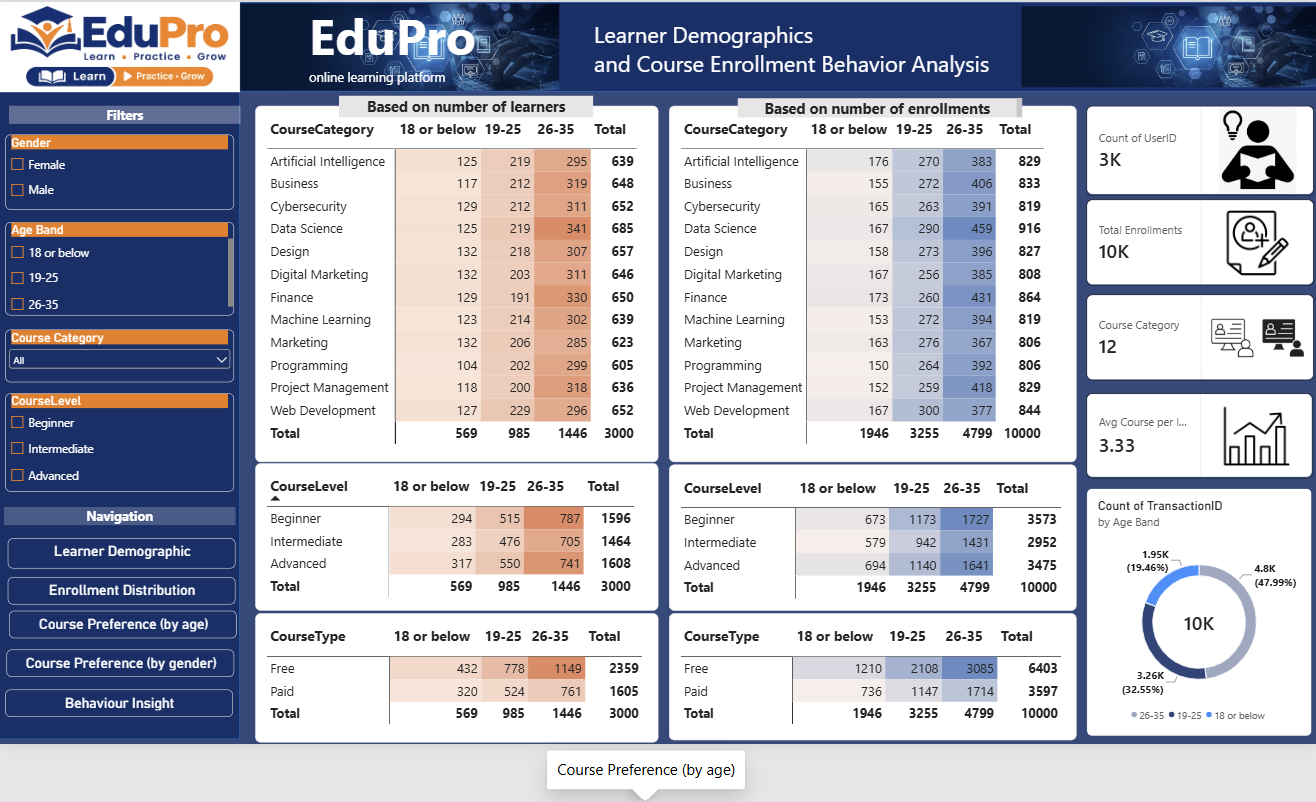

The page's visual inventory and layout, read from the dashboard file:
{"tool":"powerbi","page":{"name":"Course Preference (by age) ","canvas":[1920,1080],"ordinal":2},"visuals":[{"type":"shape","box":[350.6,0,1569.8,130.8],"z":0},{"type":"image","box":[350.6,0,464,130.8],"z":1000},{"type":"shape","box":[0,123.8,350.6,948.8],"z":2000},{"type":"image","box":[0,0,350.6,130.8],"z":3000},{"type":"textbox","box":[865.1,26.2,941.9,97.7],"z":4000},{"type":"image","box":[1487.8,0,432.6,130.8],"z":5000},{"type":"textbox","box":[450,0,334.9,150],"z":6000},{"type":"pivotTable","fields":{"Columns":["EduPro Online Platform Users.Age Band"],"Rows":["EduPro Online Platform Courses.CourseCategory"],"Values":["Count(EduPro Online Platform Transactions.UserID)"]},"box":[373.3,151.7,586,518],"z":7000},{"type":"pivotTable","fields":{"Columns":["EduPro Online Platform Users.Age Band"],"Rows":["EduPro Online Platform Courses.CourseCategory"],"Values":["Count(EduPro Online Platform Transactions.TransactionID)"]},"box":[975,150,593,518],"z":8000},{"type":"pivotTable","fields":{"Columns":["EduPro Online Platform Users.Age Band"],"Rows":["EduPro Online Platform Courses.CourseLevel"],"Values":["Count(EduPro Online Platform Transactions.UserID)"]},"box":[373.3,671.5,586,214.5],"z":9000},{"type":"pivotTable","fields":{"Columns":["EduPro Online Platform Users.Age Band"],"Rows":["EduPro Online Platform Courses.CourseType"],"Values":["Count(EduPro Online Platform Transactions.UserID)"]},"box":[373.3,889.5,586,188.4],"z":10000},{"type":"pivotTable","fields":{"Columns":["EduPro Online Platform Users.Age Band"],"Rows":["EduPro Online Platform Courses.CourseLevel"],"Values":["Count(EduPro Online Platform Transactions.TransactionID)"]},"box":[975,673.3,593,212.8],"z":11000},{"type":"pivotTable","fields":{"Columns":["EduPro Online Platform Users.Age Band"],"Rows":["EduPro Online Platform Courses.CourseType"],"Values":["Count(EduPro Online Platform Transactions.TransactionID)"]},"box":[975,889.5,593,184.9],"z":12000},{"type":"textbox","box":[1074.4,139.5,413.4,27.9],"z":13000},{"type":"slicer","fields":{"Values":["EduPro Online Platform Users.Gender"]},"box":[8.7,191.9,333.1,109.9],"z":14000},{"type":"slicer","fields":{"Values":["EduPro Online Platform Users.Age Band"]},"box":[8.7,319.2,333.1,136],"z":15000},{"type":"slicer","fields":{"Values":["EduPro Online Platform Courses.CourseLevel"]},"box":[8.7,568.6,333.1,143],"z":16000},{"type":"textbox","box":[14,150,336.6,26.2],"z":17000},{"type":"textbox","box":[7,734.3,336.6,26.2],"z":18000},{"type":"actionButton","title":"Enrollment Distribution","box":[12.2,835.5,331.4,40.1],"z":19000},{"type":"actionButton","title":"Learner Demographic","box":[12.2,779.7,331.4,43.6],"z":20000},{"type":"actionButton","title":"Course Preference (by age)","box":[14,886,331.4,40.1],"z":21000},{"type":"actionButton","title":"Course Preference (by gender)","box":[10.5,941.9,331.4,40.1],"z":22000},{"type":"actionButton","title":"Behaviour Insight","box":[8.7,999.4,331.4,40.1],"z":23000},{"type":"slicer","fields":{"Values":["EduPro Online Platform Courses.CourseCategory"]},"box":[8.7,476.2,333.1,76.7],"z":24000},{"type":"textbox","box":[495.4,136,369.8,31.4],"z":25000},{"type":"cardVisual","fields":{"Data":["EduPro Online Platform Transactions.Total Enrollments"]},"box":[1582,287.8,331.4,125.6],"z":26000},{"type":"cardVisual","fields":{"Data":["Count(EduPro Online Platform Users.UserID)"]},"box":[1582,151.7,331.4,130.8],"z":27000},{"type":"cardVisual","fields":{"Data":["Count(EduPro Online Platform Courses.CourseCategory)"]},"box":[1582,425.6,331.4,125.6],"z":28000},{"type":"cardVisual","fields":{"Data":["EduPro Online Platform Courses.Avg Course taken per learner"]},"box":[1582,568.6,329.7,123.8],"z":29000},{"type":"donutChart","fields":{"Category":["EduPro Online Platform Users.Age Band"],"Y":["CountNonNull(EduPro Online Platform Transactions.TransactionID)"]},"box":[1582,706.4,327.9,361],"z":30000}]}

Visuals, with their boxes on the page's 1920x1080 design canvas (x1, y1, x2, y2). These are canvas units, not pixel positions in the 1316x802 screenshot, which may show the page scaled, cropped or inside an application window:
shape: x1=351, y1=0, x2=1920, y2=131
image: x1=351, y1=0, x2=815, y2=131
shape: x1=0, y1=124, x2=351, y2=1073
image: x1=0, y1=0, x2=351, y2=131
textbox: x1=865, y1=26, x2=1807, y2=124
image: x1=1488, y1=0, x2=1920, y2=131
textbox: x1=450, y1=0, x2=785, y2=150
pivotTable - EduPro Online Platform Users.Age Band x EduPro Online Platform Courses.CourseCategory: x1=373, y1=152, x2=959, y2=670
pivotTable - EduPro Online Platform Users.Age Band x EduPro Online Platform Courses.CourseCategory: x1=975, y1=150, x2=1568, y2=668
pivotTable - EduPro Online Platform Users.Age Band x EduPro Online Platform Courses.CourseLevel: x1=373, y1=672, x2=959, y2=886
pivotTable - EduPro Online Platform Users.Age Band x EduPro Online Platform Courses.CourseType: x1=373, y1=890, x2=959, y2=1078
pivotTable - EduPro Online Platform Users.Age Band x EduPro Online Platform Courses.CourseLevel: x1=975, y1=673, x2=1568, y2=886
pivotTable - EduPro Online Platform Users.Age Band x EduPro Online Platform Courses.CourseType: x1=975, y1=890, x2=1568, y2=1074
textbox: x1=1074, y1=140, x2=1488, y2=167
slicer - EduPro Online Platform Users.Gender: x1=9, y1=192, x2=342, y2=302
slicer - EduPro Online Platform Users.Age Band: x1=9, y1=319, x2=342, y2=455
slicer - EduPro Online Platform Courses.CourseLevel: x1=9, y1=569, x2=342, y2=712
textbox: x1=14, y1=150, x2=351, y2=176
textbox: x1=7, y1=734, x2=344, y2=760
"Enrollment Distribution" actionButton: x1=12, y1=836, x2=344, y2=876
"Learner Demographic" actionButton: x1=12, y1=780, x2=344, y2=823
"Course Preference (by age)" actionButton: x1=14, y1=886, x2=345, y2=926
"Course Preference (by gender)" actionButton: x1=10, y1=942, x2=342, y2=982
"Behaviour Insight" actionButton: x1=9, y1=999, x2=340, y2=1040
slicer - EduPro Online Platform Courses.CourseCategory: x1=9, y1=476, x2=342, y2=553
textbox: x1=495, y1=136, x2=865, y2=167
cardVisual - EduPro Online Platform Transactions.Total Enrollments: x1=1582, y1=288, x2=1913, y2=413
cardVisual - Count(EduPro Online Platform Users.UserID): x1=1582, y1=152, x2=1913, y2=282
cardVisual - Count(EduPro Online Platform Courses.CourseCategory): x1=1582, y1=426, x2=1913, y2=551
cardVisual - EduPro Online Platform Courses.Avg Course taken per learner: x1=1582, y1=569, x2=1912, y2=692
donutChart - EduPro Online Platform Users.Age Band x CountNonNull(EduPro Online Platform Transactions.TransactionID): x1=1582, y1=706, x2=1910, y2=1067
